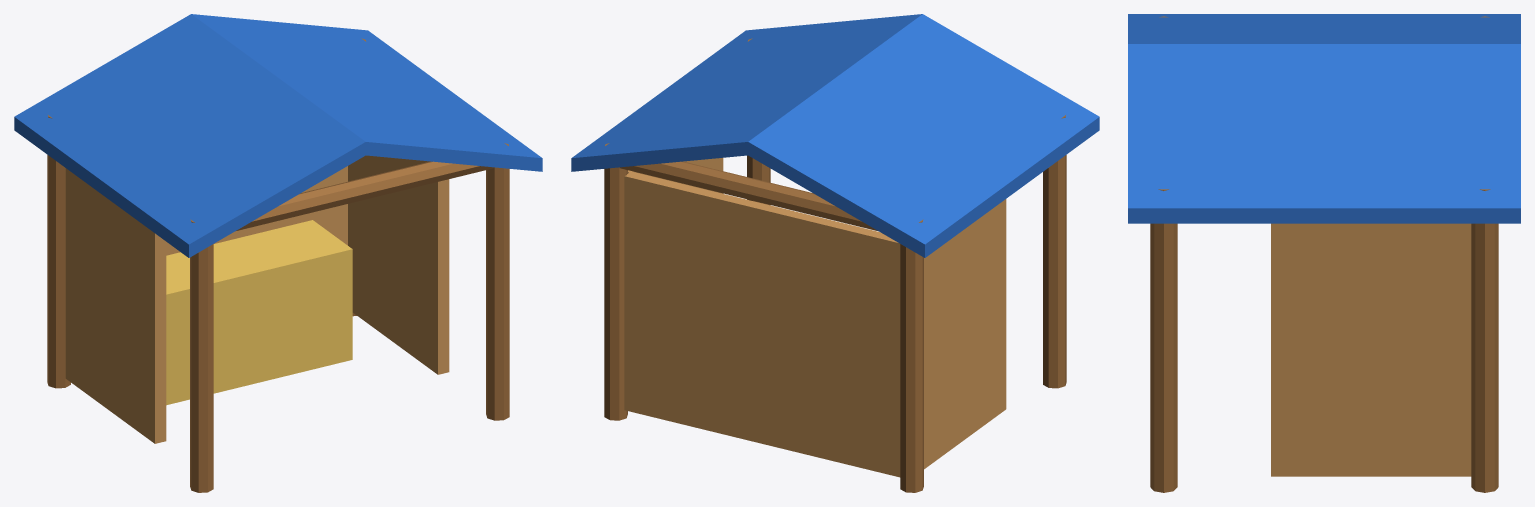
Rendered from FTF_Building_HayShed_Open_4m_BlueRoof.glb.
3 renders of one model, left to right at view 1: azimuth 30°, elevation 25°; view 2: azimuth 150°, elevation 25°; view 3: azimuth 270°, elevation 25°, orthographic. The views are drawn at different scales.
Visible parts, largest first — view 1: FTF_Building_HayShed_Open_4m_BlueRoof_Mesh; view 2: FTF_Building_HayShed_Open_4m_BlueRoof_Mesh; view 3: FTF_Building_HayShed_Open_4m_BlueRoof_Mesh.
Part boxes in pixels (x1,y1,x2,y2): FTF_Building_HayShed_Open_4m_BlueRoof_Mesh: (14,14,542,492); FTF_Building_HayShed_Open_4m_BlueRoof_Mesh: (571,14,1099,492); FTF_Building_HayShed_Open_4m_BlueRoof_Mesh: (1128,14,1520,492).
Bounding box in the file's own units: 4.35 × 3.78 × 3.72.
